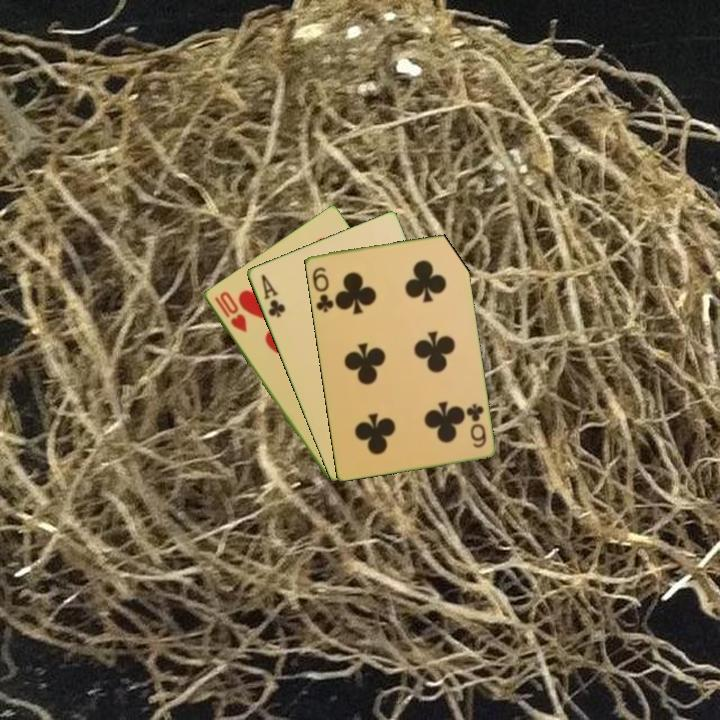10h: (210, 288, 250, 336)
6c: (308, 263, 336, 315), (463, 400, 489, 451)
Ac: (257, 270, 288, 321)
